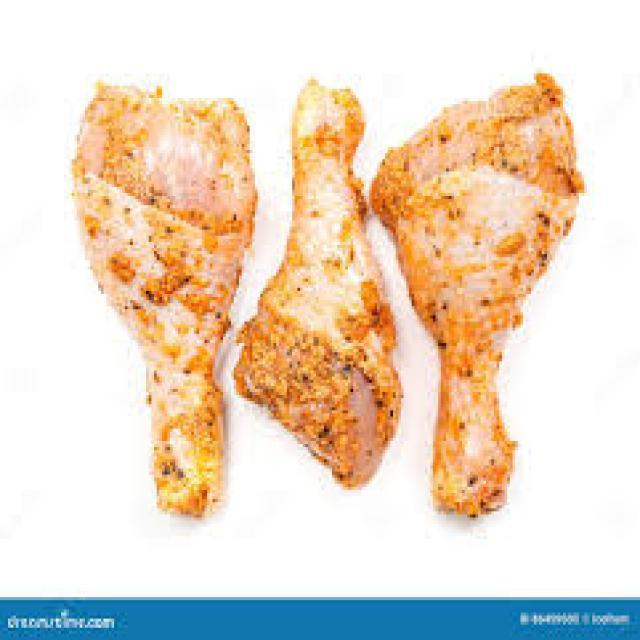leg: (378, 70, 583, 513), (63, 76, 238, 522), (256, 73, 402, 474)
